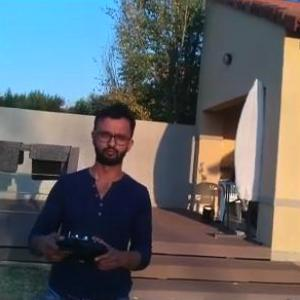follow: (22, 94, 158, 299)
